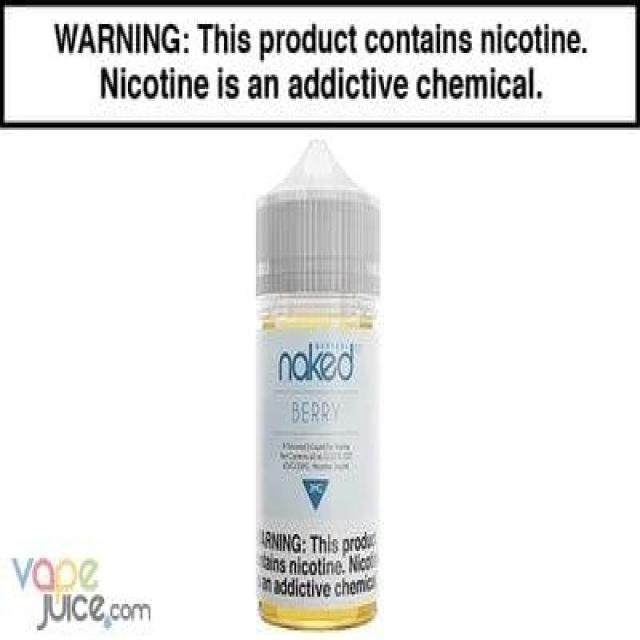Vapes: (243, 137, 391, 632)
